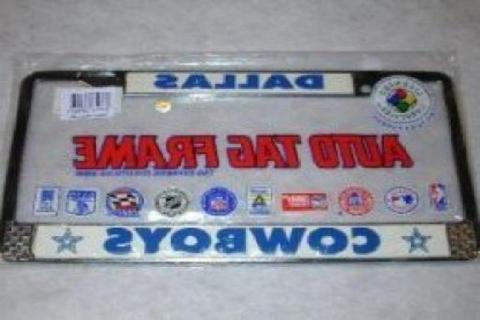LicensePlate: (46, 120, 424, 182)
